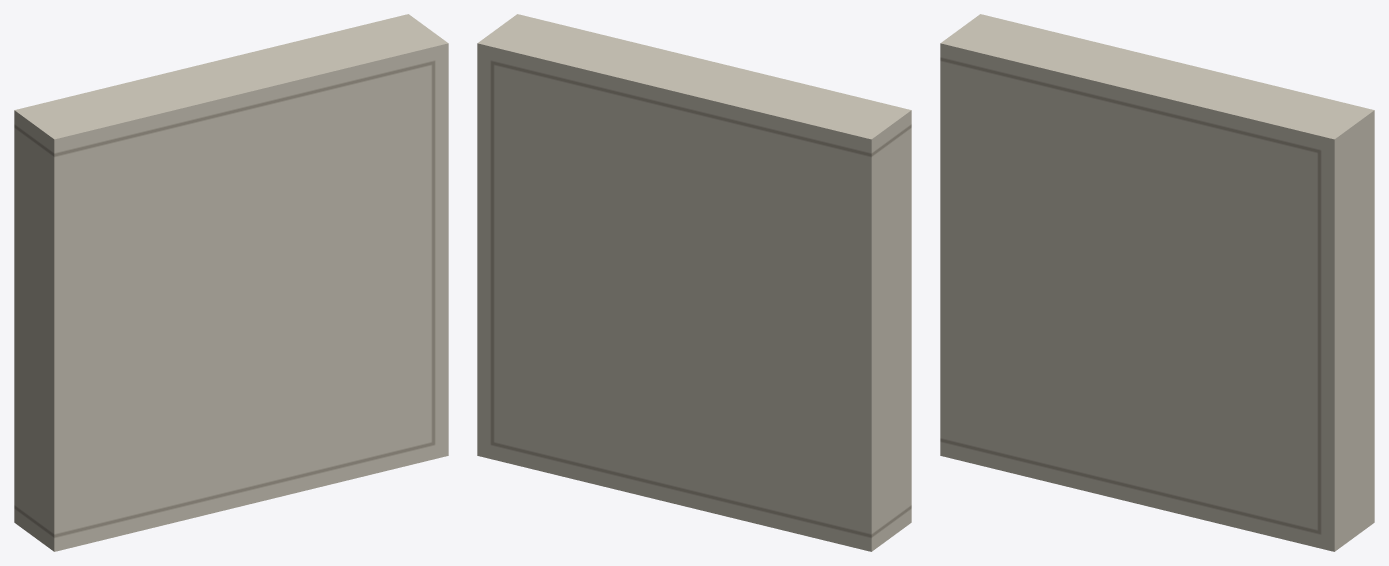
File: gba_box.glb
The picture shows the model from 3 angles, left to right: view 1: azimuth 30°, elevation 25°; view 2: azimuth 150°, elevation 25°; view 3: azimuth 330°, elevation 25°; orthographic projection.
Visible parts, largest first — view 1: gba_box; view 2: gba_box; view 3: gba_box.
Part boxes in pixels (left/top/right/bottom): gba_box: left=14, top=14, right=448, bottom=551; gba_box: left=477, top=14, right=911, bottom=551; gba_box: left=940, top=14, right=1374, bottom=551.
Size of the model in its own units: 0.125 by 0.125 by 0.022.
1 material, 1 textured.
